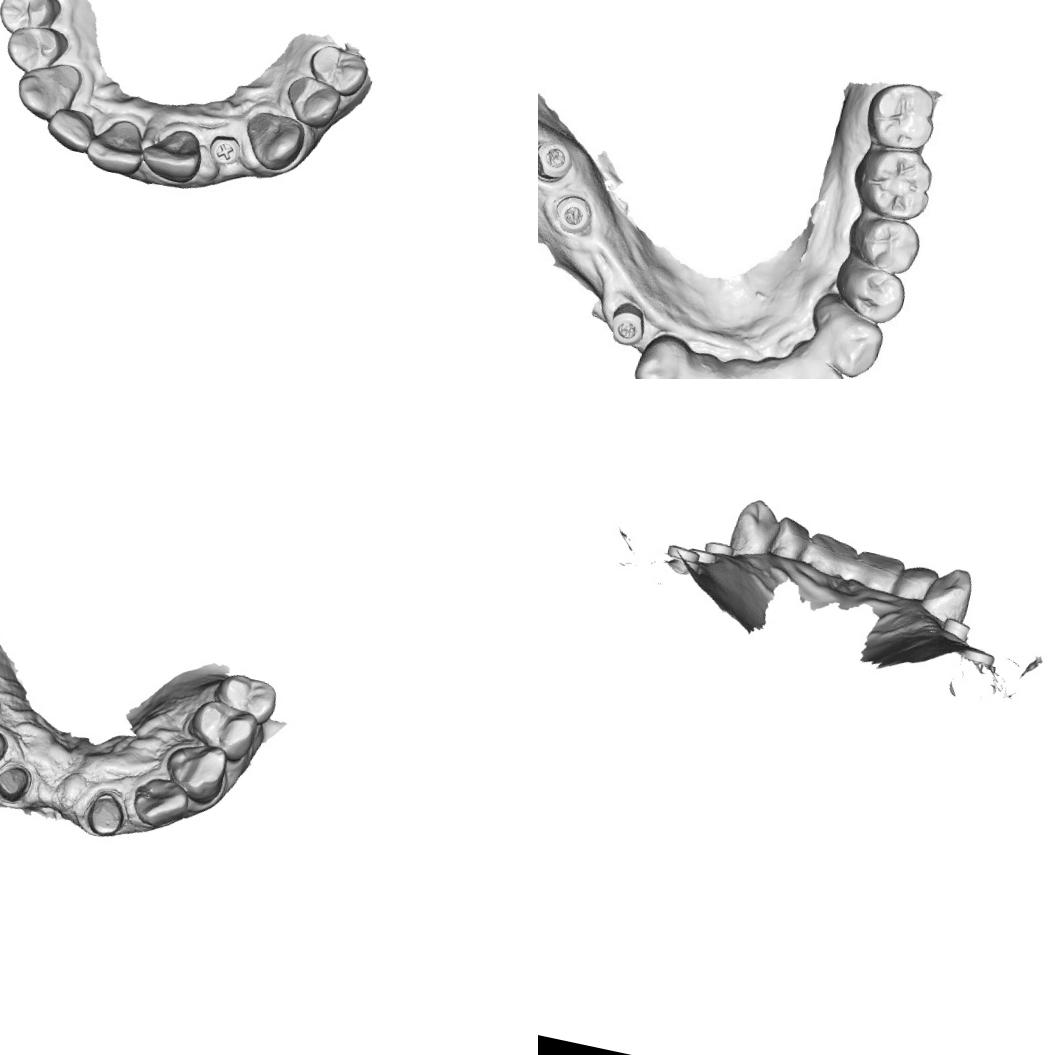canine: (812, 302, 890, 379), (10, 54, 86, 126), (159, 737, 232, 807), (238, 108, 310, 176), (626, 327, 698, 379), (920, 561, 978, 625), (728, 493, 786, 556)
crown: (79, 782, 132, 843), (0, 759, 35, 803)
implant: (602, 296, 651, 350), (546, 194, 598, 239), (538, 132, 579, 185), (959, 642, 998, 667), (938, 615, 974, 642), (662, 540, 702, 564), (702, 538, 735, 560), (687, 546, 720, 568)
implant_plus: (206, 133, 244, 170)
incisor: (136, 121, 207, 187), (82, 113, 150, 180), (126, 772, 193, 834), (799, 528, 863, 584), (42, 103, 98, 156), (850, 547, 909, 596), (891, 560, 941, 607), (770, 514, 814, 564), (789, 348, 851, 379), (676, 362, 733, 379), (758, 363, 818, 379)
molar: (851, 142, 940, 226), (859, 75, 941, 158), (182, 694, 262, 765), (209, 668, 280, 728)
premolar: (832, 260, 912, 332), (844, 212, 923, 278), (0, 19, 72, 81), (304, 42, 372, 100), (280, 72, 345, 132), (0, 0, 62, 43)
